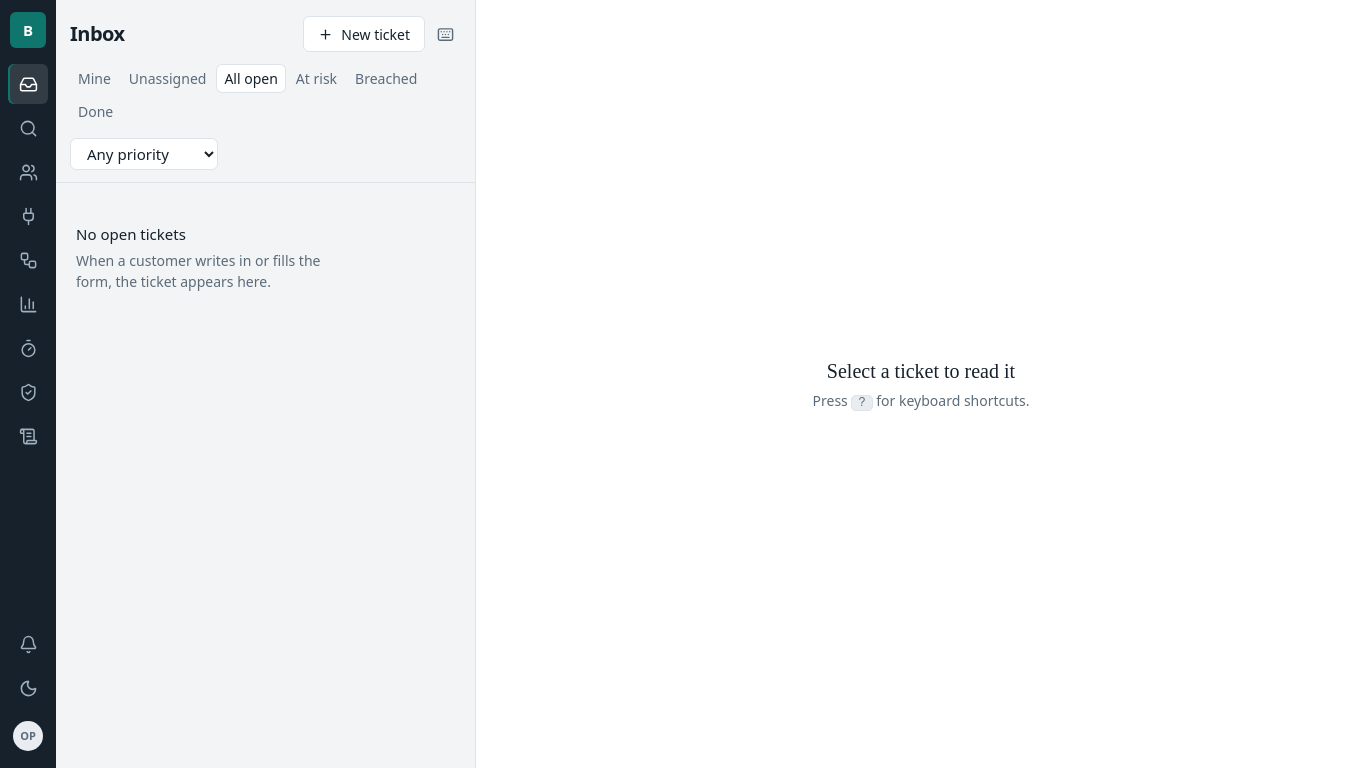
queue › has At risk and Breached views that ask the API and explain when empty
Expected: the text "No open tickets" is shown, [76, 224, 186, 244]
Click the tab "At risk": (316, 78) [288, 64, 345, 93]
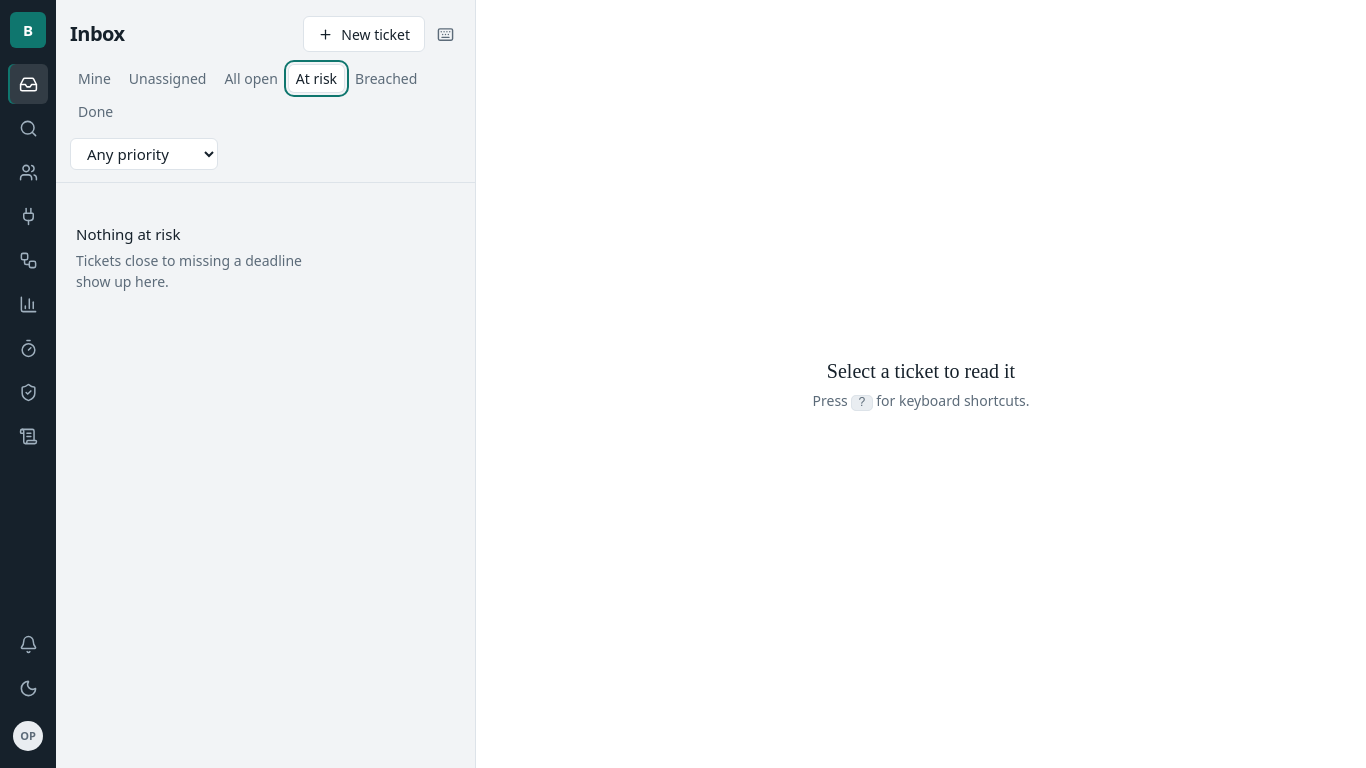
Expected: the text "Nothing at risk" is shown, [76, 224, 180, 244]
Click the tab "Breached": (386, 78) [347, 64, 425, 93]
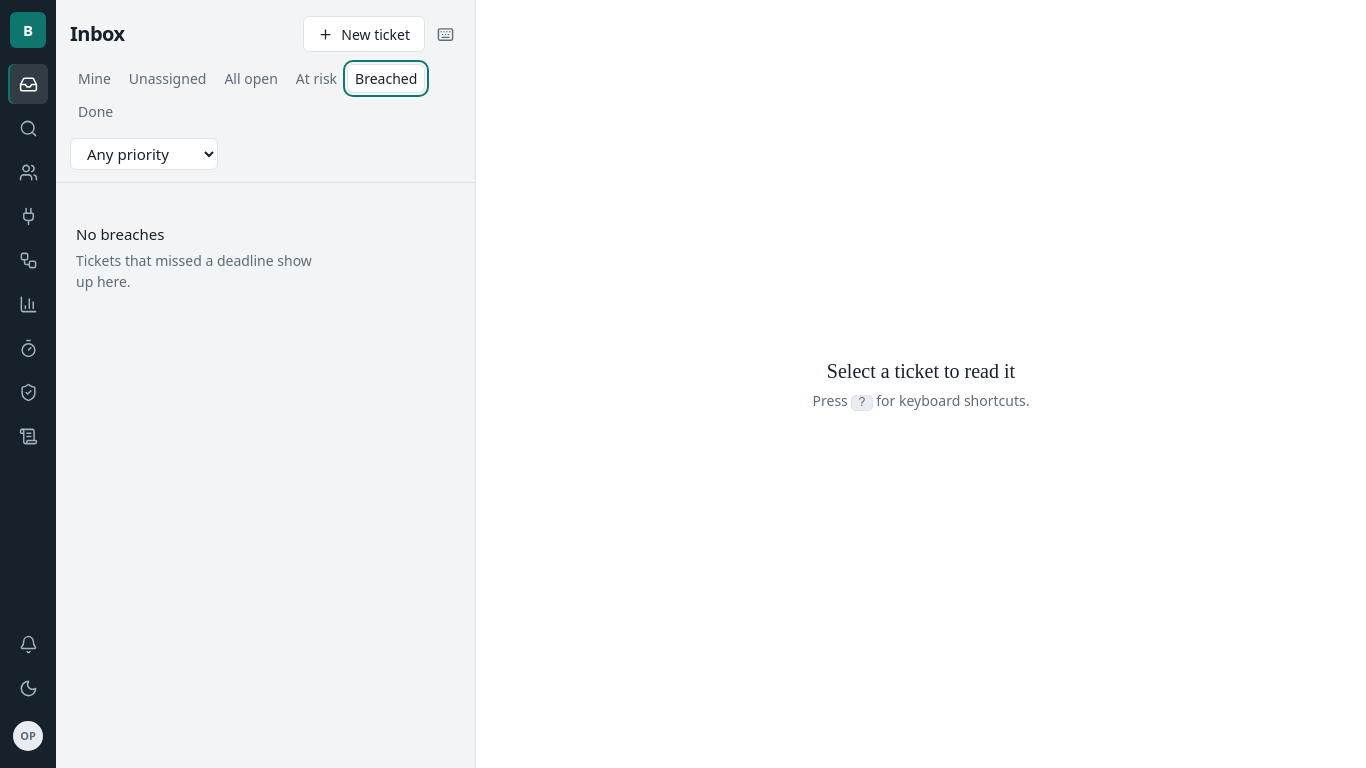
Expected: the text "No breaches" is shown, [76, 224, 164, 244]
